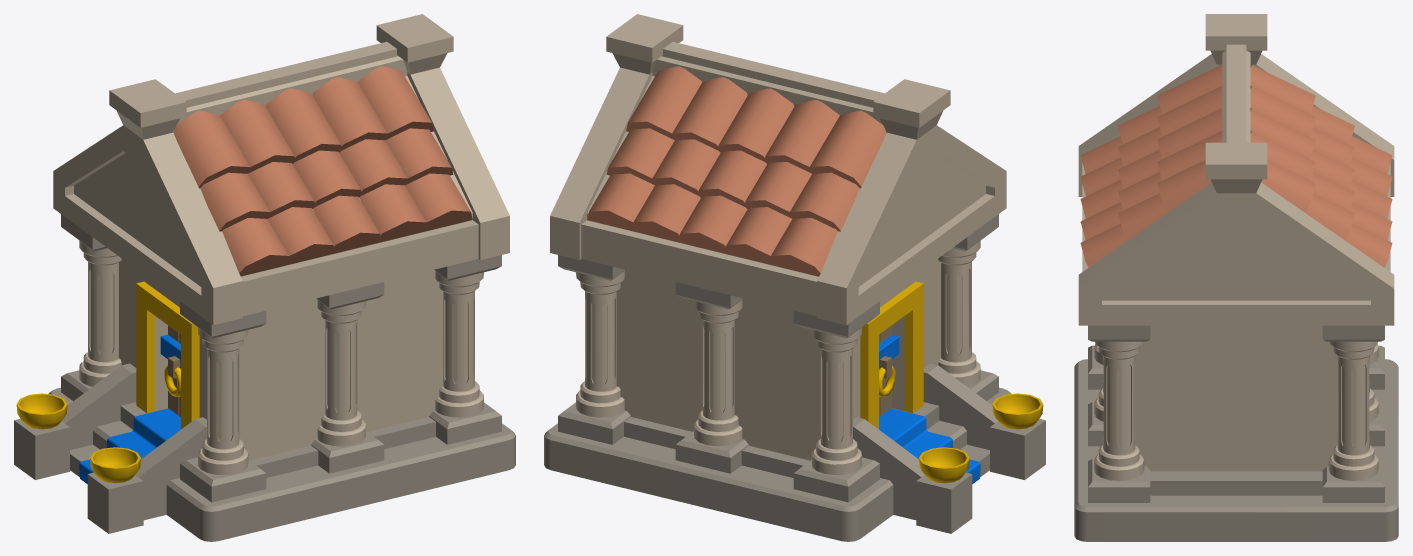
File: mesh_house_03.fbx
The picture shows the model from 3 angles, left to right: view 1: azimuth 30°, elevation 25°; view 2: azimuth 150°, elevation 25°; view 3: azimuth 270°, elevation 25°; orthographic projection.
Parts seen in each view (by area): view 1: mesh_house_03; view 2: mesh_house_03; view 3: mesh_house_03.
Part boxes in pixels (left/top/right/bottom): mesh_house_03: left=14, top=14, right=515, bottom=541; mesh_house_03: left=544, top=14, right=1045, bottom=541; mesh_house_03: left=1074, top=14, right=1398, bottom=541.
Size of the model in its own units: 0.0689 by 0.0658 by 0.0513.
